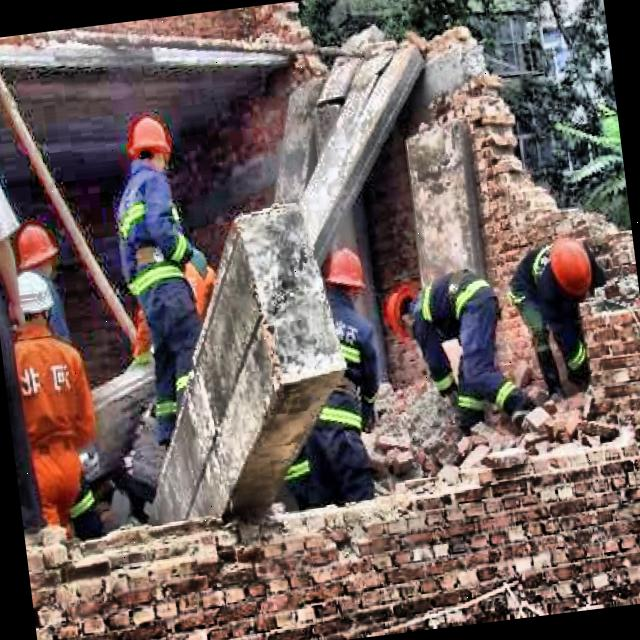helmet: (544, 232, 596, 300), (8, 269, 55, 328), (322, 243, 367, 304), (10, 222, 60, 276), (126, 116, 172, 174), (384, 284, 427, 343)
